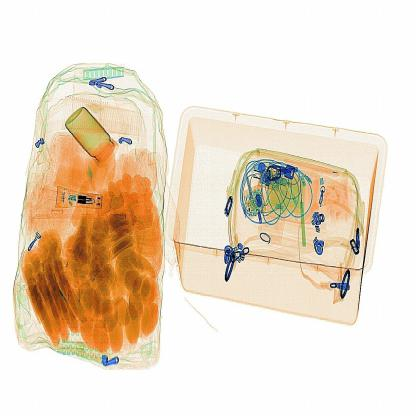wrench: (288, 161, 318, 251)
